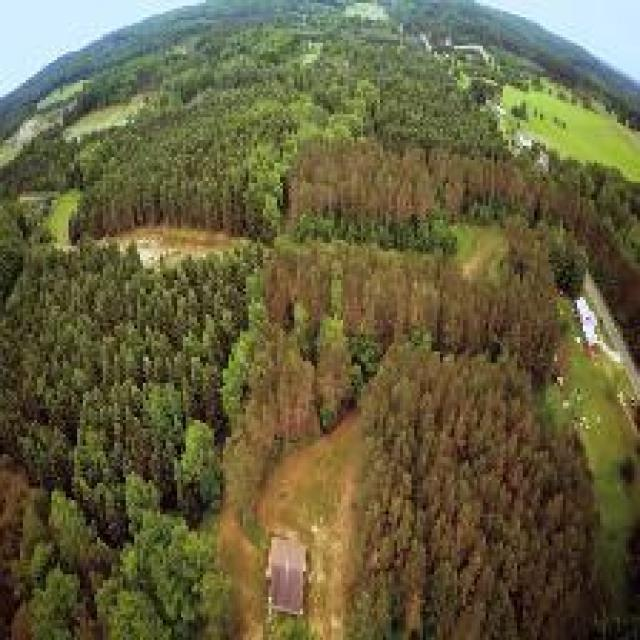other: (547, 258, 632, 428)
